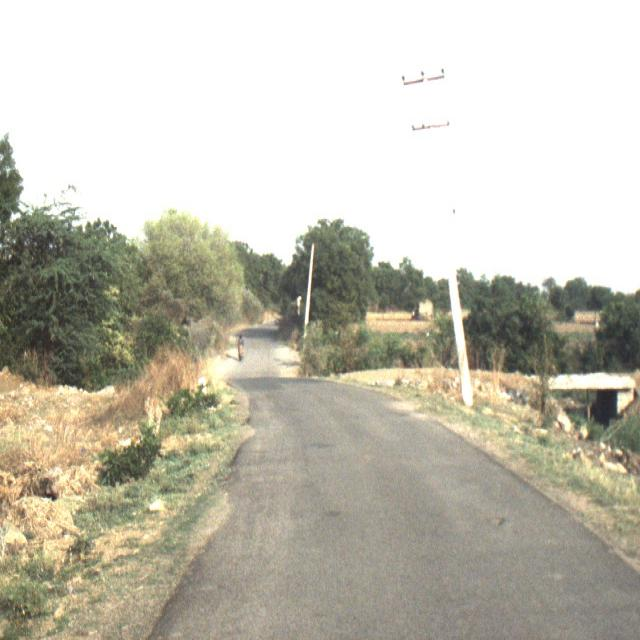high: (233, 331, 253, 374)
